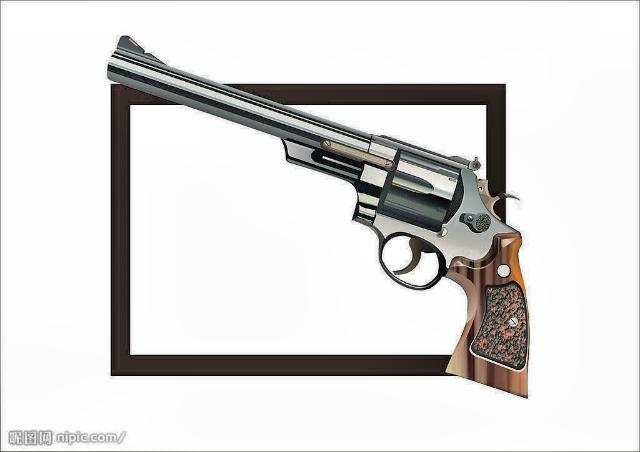pistol: (105, 32, 531, 402)
